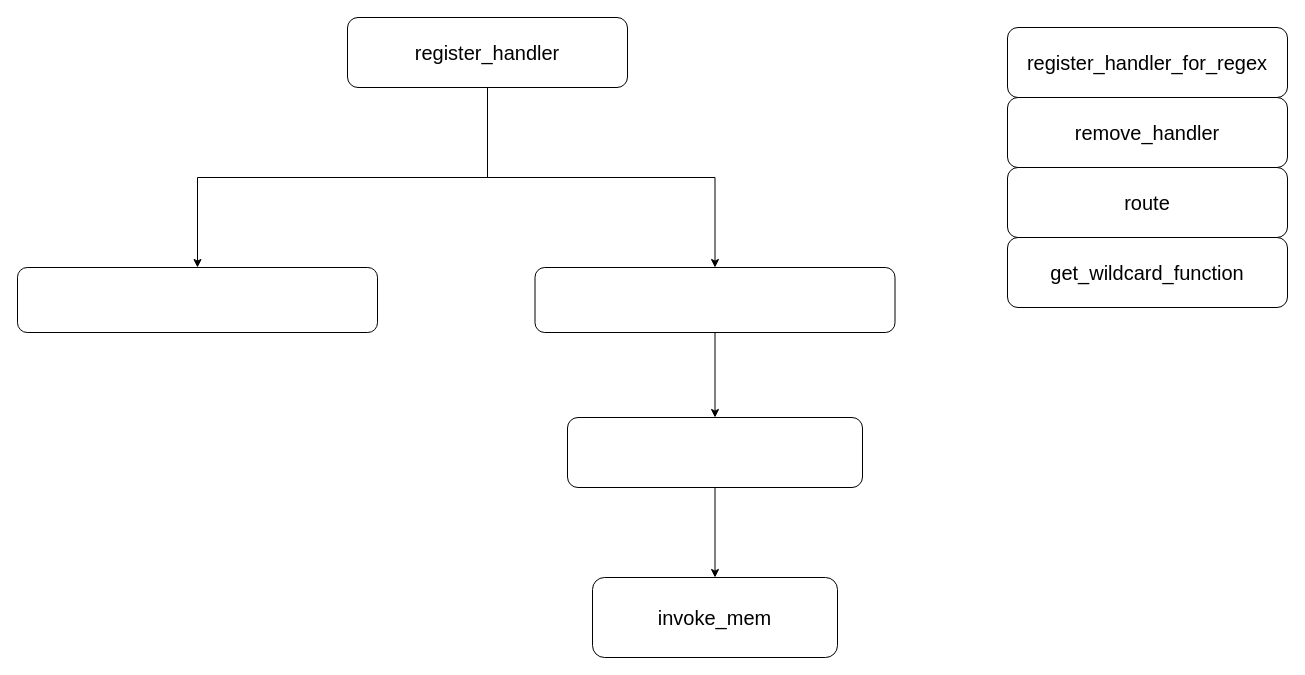
The diagram is 1305 pixels wide and 675 high, and some of its shapes have lost their labels. The shapes that lost their labels are listed below. From the top down, each one's box as (x1, y1, x2, y2) in pixels, then its label:
(16, 266, 378, 332): register_nonmember_func
(534, 266, 895, 332): register_handler_impl
(566, 416, 862, 488): register_member_func
